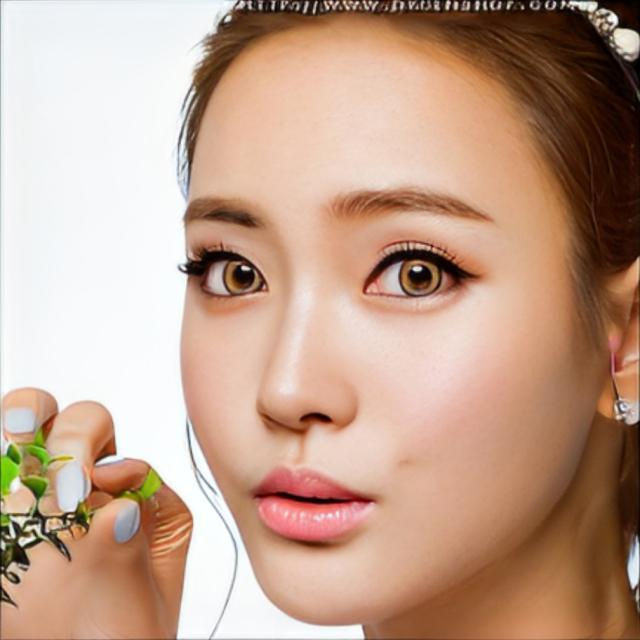surprise: (174, 11, 598, 628)
